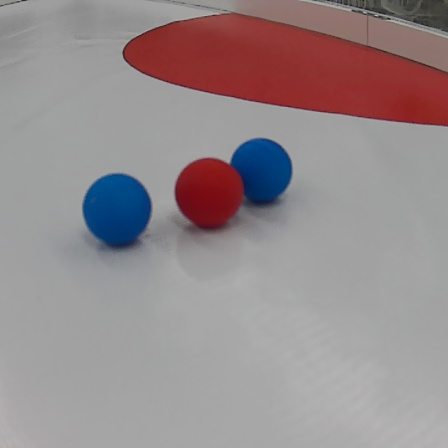blue: (82, 170, 154, 252), (235, 136, 290, 210)
red: (176, 156, 244, 224)
red_base: (123, 8, 445, 123)
